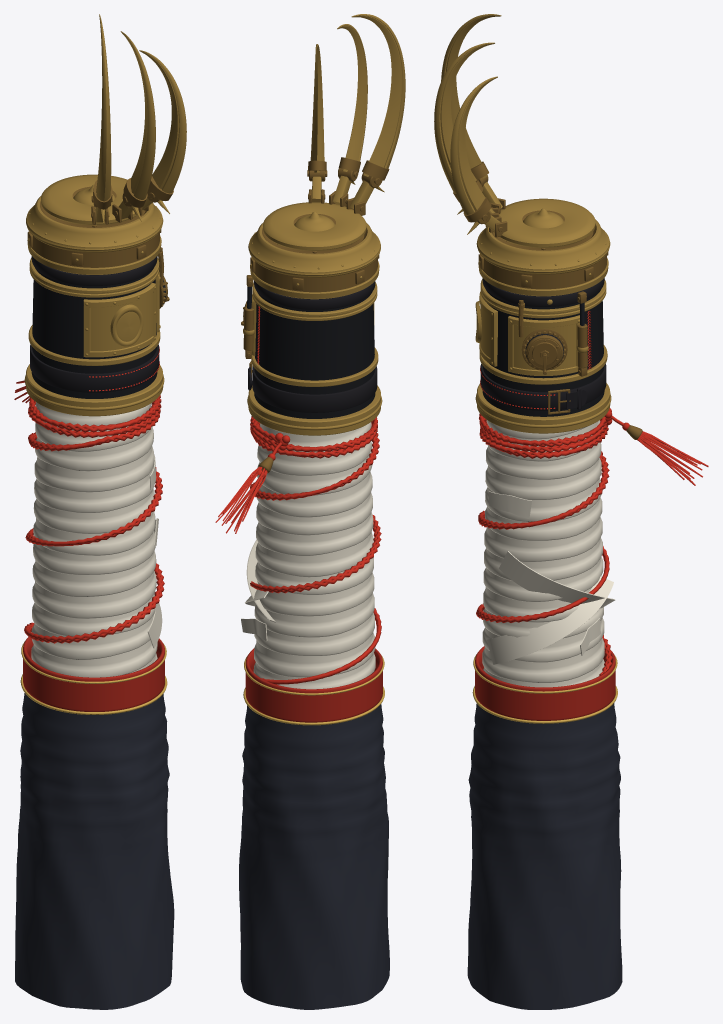
File: gauntlet.glb
The picture shows the model from 3 angles, left to right: view 1: azimuth 30°, elevation 25°; view 2: azimuth 150°, elevation 25°; view 3: azimuth 270°, elevation 25°; orthographic projection. The views are drawn at different scales.
Visible parts, largest first — view 1: gauntlet, claw; view 2: gauntlet, claw; view 3: gauntlet, claw.
Boxes of the visible parts, bbox=[...] form: gauntlet: bbox=[14, 186, 174, 1009]; claw: bbox=[41, 14, 186, 225]; gauntlet: bbox=[215, 214, 389, 1009]; claw: bbox=[263, 14, 405, 250]; gauntlet: bbox=[467, 210, 708, 1009]; claw: bbox=[434, 14, 595, 247].
Size of the model in its own units: 0.1477 by 0.9751 by 0.2542.
